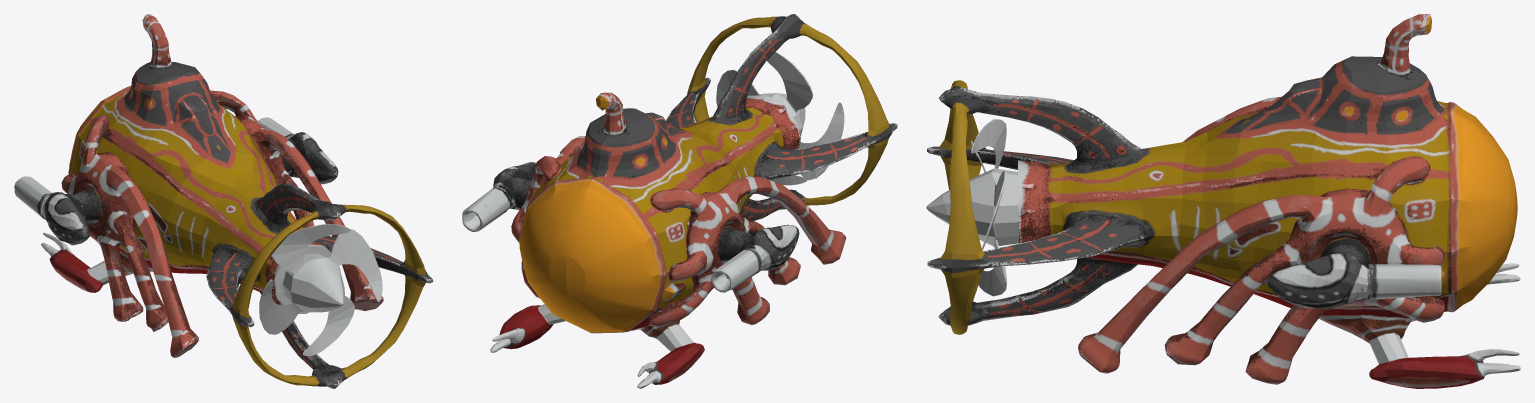
The model's file is sous_marin.fbx.
3 renders of one model, left to right at view 1: azimuth 30°, elevation 25°; view 2: azimuth 150°, elevation 25°; view 3: azimuth 270°, elevation 25°, orthographic. The views are drawn at different scales.
Parts seen in each view (by area): view 1: CORP_low1, propuleser_et_canon_Low1, elise_Low1; view 2: CORP_low1, propuleser_et_canon_Low1, elise_Low1; view 3: CORP_low1, propuleser_et_canon_Low1, elise_Low1.
Boxes of the visible parts, left/top/right/bottom form: CORP_low1: left=41, top=14, right=433, bottom=388; propuleser_et_canon_Low1: left=14, top=90, right=383, bottom=357; elise_Low1: left=259, top=224, right=382, bottom=355; CORP_low1: left=490, top=14, right=897, bottom=388; propuleser_et_canon_Low1: left=462, top=136, right=846, bottom=327; elise_Low1: left=716, top=52, right=844, bottom=185; CORP_low1: left=927, top=14, right=1520, bottom=388; propuleser_et_canon_Low1: left=1078, top=96, right=1444, bottom=384; elise_Low1: left=926, top=119, right=1018, bottom=296.
Size of the model in its own units: 223 by 201 by 327.
Materials: 1 (1 with a texture image).
